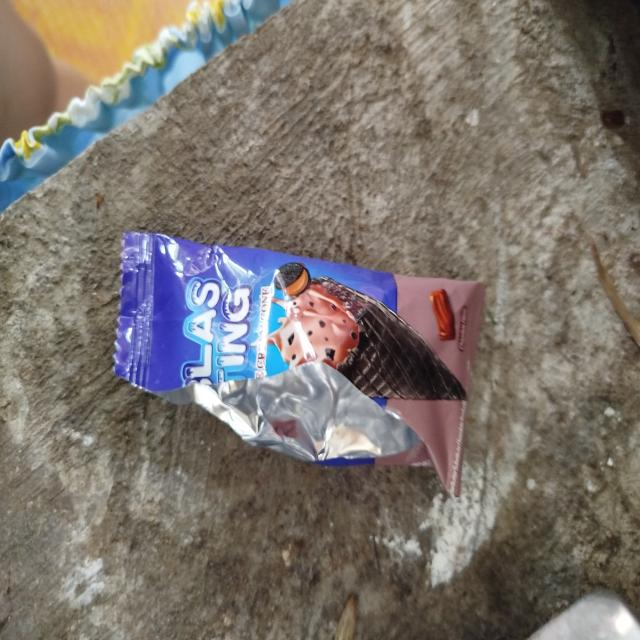residual: (108, 212, 504, 522)
